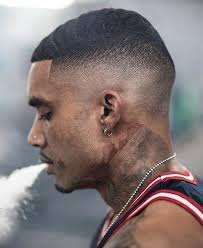black_male: (11, 37, 163, 209)
